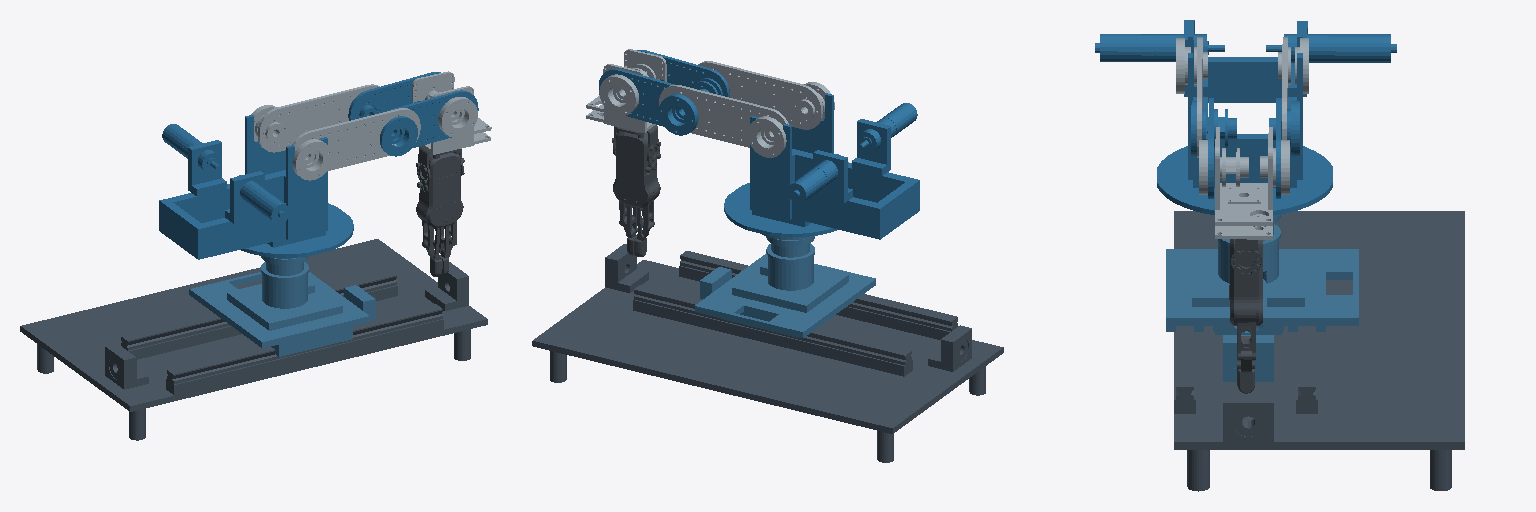
URDF robot description (pieas_6dof_arm):
<?xml version='1.0' encoding='utf-8'?>
<robot name="pieas_6dof_arm">
  <!-- Demo speed assumptions: rail 0.15 m/s, rotary joints 1.0 rad/s.
       These are simulation settings, not validated actuator ratings. -->
  <!--Extracted from final forward at.ttt. RG2 shown in its saved configuration. See README for simulation assumptions.-->
  <material name="base_gray">
    <color rgba="0.33 0.38 0.43 1" />
  </material>
  <material name="slide_blue">
    <color rgba="0.30 0.51 0.65 1" />
  </material>
  <material name="arm_blue">
    <color rgba="0.23 0.49 0.66 1" />
  </material>
  <material name="arm_light">
    <color rgba="0.65 0.70 0.74 1" />
  </material>
  <material name="tool_gray">
    <color rgba="0.32 0.35 0.38 1" />
  </material>
  <link name="base_link">
    <visual name="base_link_visual">
      <origin xyz="-0.113622929253 -0.0451833597702 -0.0472692382633" rpy="1.5707963268 -1.03472785895e-13 -2.42251700177" />
      <geometry>
        <mesh filename="package://pieas_arm_description/meshes/base_link.stl" />
      </geometry>
      <material name="base_gray" />
    </visual>
    <collision name="base_link_collision">
      <origin xyz="-0.113622929253 -0.0451833597702 -0.0472692382633" rpy="1.5707963268 -1.03472785895e-13 -2.42251700177" />
      <geometry>
        <mesh filename="package://pieas_arm_description/meshes/base_link.stl" />
      </geometry>
    </collision>
    <inertial>
      <origin xyz="0.0746142583713 -0.0326016751849 -0.0390220325867" rpy="0 0 0" />
      <mass value="2.78786851868" />
      <inertia ixx="0.0601623743892" ixy="-0.0231749016154" ixz="0.0198890426679" iyy="0.0663467585271" iyz="0.0174115406571" izz="0.0469428717541" />
    </inertial>
  </link>
  <link name="slide_link">
    <visual name="slide_link_visual">
      <origin xyz="-0.02 -0.0899198954059 0.000703314726334" rpy="0 0.0106113005392 1.57079632679" />
      <geometry>
        <mesh filename="package://pieas_arm_description/meshes/slide_link.stl" />
      </geometry>
      <material name="slide_blue" />
    </visual>
    <collision name="slide_link_collision">
      <origin xyz="-0.02 -0.0899198954059 0.000703314726334" rpy="0 0.0106113005392 1.57079632679" />
      <geometry>
        <mesh filename="package://pieas_arm_description/meshes/slide_link.stl" />
      </geometry>
    </collision>
    <inertial>
      <origin xyz="-0.0442565395049 -0.00688661890439 -0.00501030348696" rpy="0 0 0" />
      <mass value="1.27925394187" />
      <inertia ixx="0.00345500882567" ixy="5.21466629094e-07" ixz="-1.50166049777e-05" iyy="0.00171410084141" iyz="-1.94566506382e-06" izz="0.00208419339419" />
    </inertial>
  </link>
  <link name="shoulder_link">
    <visual name="shoulder_link_visual">
      <origin xyz="-3.28057514273e-06 -5.28344363053e-06 -1.94069760262e-11" rpy="3.67320496739e-06 3.67320525818e-06 1.31819064195e-11" />
      <geometry>
        <mesh filename="package://pieas_arm_description/meshes/shoulder_link.stl" />
      </geometry>
      <material name="arm_blue" />
    </visual>
    <collision name="shoulder_link_collision">
      <origin xyz="-3.28057514273e-06 -5.28344363053e-06 -1.94069760262e-11" rpy="3.67320496739e-06 3.67320525818e-06 1.31819064195e-11" />
      <geometry>
        <mesh filename="package://pieas_arm_description/meshes/shoulder_link.stl" />
      </geometry>
    </collision>
    <inertial>
      <origin xyz="-0.0574078653502 -5.47631027084e-06 0.0524891184719" rpy="0 0 0" />
      <mass value="1.1263238117" />
      <inertia ixx="0.00208066448992" ixy="-5.49682688349e-13" ixz="1.08628727089e-08" iyy="0.0035632236717" iyz="-5.41735457284e-09" izz="0.0050380439923" />
    </inertial>
  </link>
  <link name="elbow_link">
    <visual name="elbow_link_visual">
      <origin xyz="-0.0219006117041 -0.0370677362033 -0.0473956341845" rpy="3.14159265359 2.07389661e-13 1.56206968053" />
      <geometry>
        <mesh filename="package://pieas_arm_description/meshes/elbow_link.stl" />
      </geometry>
      <material name="arm_light" />
    </visual>
    <collision name="elbow_link_collision">
      <origin xyz="-0.0219006117041 -0.0370677362033 -0.0473956341845" rpy="3.14159265359 2.07389661e-13 1.56206968053" />
      <geometry>
        <mesh filename="package://pieas_arm_description/meshes/elbow_link.stl" />
      </geometry>
    </collision>
    <inertial>
      <origin xyz="0.056810692727 -0.00275330660781 -0.00289563418447" rpy="0 0 0" />
      <mass value="0.222412505907" />
      <inertia ixx="8.20263997316e-05" ixy="3.54036287565e-06" ixz="0" iyy="0.000487680906342" iyz="0" izz="0.00056594904882" />
    </inertial>
  </link>
  <link name="forearm_link">
    <visual name="forearm_link_visual">
      <origin xyz="-0.00314998335683 0.00205203485355 -0.0598821071591" rpy="-6.20659773576e-13 6.19282403136e-13 -0.0523598775597" />
      <geometry>
        <mesh filename="package://pieas_arm_description/meshes/forearm_link.stl" />
      </geometry>
      <material name="arm_blue" />
    </visual>
    <collision name="forearm_link_collision">
      <origin xyz="-0.00314998335683 0.00205203485355 -0.0598821071591" rpy="-6.20659773576e-13 6.19282403136e-13 -0.0523598775597" />
      <geometry>
        <mesh filename="package://pieas_arm_description/meshes/forearm_link.stl" />
      </geometry>
    </collision>
    <inertial>
      <origin xyz="0.027572242842 0.0011781122248 -0.000388327685875" rpy="0 0 0" />
      <mass value="0.190850084278" />
      <inertia ixx="6.8244415779e-05" ixy="5.15665819255e-06" ixz="1.80106604698e-08" iyy="0.000249922065697" iyz="-2.8888299329e-08" izz="0.000312526128446" />
    </inertial>
  </link>
  <link name="wrist_link">
    <visual name="wrist_link_visual">
      <origin xyz="0.00412929670069 0.000175101273392 0.0499053645979" rpy="3.14159265359 1.06137321154e-13 0.593411945678" />
      <geometry>
        <mesh filename="package://pieas_arm_description/meshes/wrist_link.stl" />
      </geometry>
      <material name="arm_light" />
    </visual>
    <collision name="wrist_link_collision">
      <origin xyz="0.00412929670069 0.000175101273392 0.0499053645979" rpy="3.14159265359 1.06137321154e-13 0.593411945678" />
      <geometry>
        <mesh filename="package://pieas_arm_description/meshes/wrist_link.stl" />
      </geometry>
    </collision>
    <inertial>
      <origin xyz="0.0074951984155 0.016502274582 -0.00105181078086" rpy="0 0 0" />
      <mass value="0.193165266443" />
      <inertia ixx="8.38551890925e-05" ixy="-1.17601832942e-06" ixz="1.23534550029e-06" iyy="0.000108238656016" iyz="4.24587358143e-08" izz="0.000149288734218" />
    </inertial>
  </link>
  <link name="rg2_link">
    <visual name="rg2_visual">
      <origin xyz="0.000964214784228 -0.00106034677491 -0.00463968171153" rpy="2.24709140184e-13 -6.06625860655e-13 3.05432619099" />
      <geometry>
        <mesh filename="package://pieas_arm_description/meshes/rg2_visual.stl" />
      </geometry>
      <material name="tool_gray" />
    </visual>
    <collision name="rg2_collision">
      <origin xyz="0.000964214784228 -0.00106034677491 -0.00463968171153" rpy="2.24709140184e-13 -6.06625860655e-13 3.05432619099" />
      <geometry>
        <mesh filename="package://pieas_arm_description/meshes/rg2_collision.stl" />
      </geometry>
    </collision>
    <inertial>
      <origin xyz="0.000903232647258 -0.00105425323095 0.128973590649" rpy="0 0 0" />
      <mass value="0.649949986488" />
      <inertia ixx="0.00371822214612" ixy="2.36501434903e-07" ixz="-7.37576072103e-07" iyy="0.00372085974748" iyz="8.18409248667e-08" izz="0.000677826923749" />
    </inertial>
  </link>
  <link name="tool0" />
  <joint name="tool0_fixed" type="fixed">
    <parent link="rg2_link" />
    <child link="tool0" />
    <origin xyz="0.00152937072616 -9.56811660029e-05 0.195355912714" rpy="3.14159265359 2.0650148258e-13 1.57046745796" />
  </joint>
  <link name="world" />
  <joint name="base_mount" type="fixed">
    <parent link="world" />
    <child link="base_link" />
    <origin xyz="0 0 0" rpy="0 0 0" />
  </joint>
  <joint name="joint_1" type="prismatic">
    <parent link="base_link" />
    <child link="slide_link" />
    <origin xyz="0 0 0.0940007617367" rpy="-3.13112067808 1.57079632679 0" />
    <axis xyz="0 0 1" />
    <limit effort="50" velocity="0.15" lower="-0.5" upper="0.5" />
  </joint>
  <joint name="joint_2" type="revolute">
    <parent link="slide_link" />
    <child link="shoulder_link" />
    <origin xyz="-0.15724 2.35953659804e-06 -3.65214317016e-06" rpy="1.57079265357 1.56395062626 -1.57079632681" />
    <axis xyz="0 0 1" />
    <limit effort="10" velocity="1.0" lower="-3.14159265359" upper="3.14159265359" />
  </joint>
  <joint name="joint_3" type="revolute">
    <parent link="shoulder_link" />
    <child link="elbow_link" />
    <origin xyz="-4.11575832122e-06 -2.94129452787e-06 0.139410171371" rpy="-1.57078947493 0.00132489761668 -1.83173785084e-06" />
    <axis xyz="0 0 1" />
    <limit effort="10" velocity="1.0" lower="-3.14159265359" upper="3.14159265359" />
  </joint>
  <joint name="joint_4" type="revolute">
    <parent link="elbow_link" />
    <child link="forearm_link" />
    <origin xyz="0.162775198791 -0.00042495666064 0.000596459765891" rpy="6.19476692165e-13 -7.34640979516e-06 -0.00872664626018" />
    <axis xyz="0 0 1" />
    <limit effort="10" velocity="1.0" lower="-3.14159265359" upper="3.14159265359" />
  </joint>
  <joint name="joint_5" type="revolute">
    <parent link="forearm_link" />
    <child link="wrist_link" />
    <origin xyz="0.0998642916392 0.000765100000294 0.000352518473079" rpy="-7.34641081236e-06 4.26991775271e-13 -0.0285178775596" />
    <axis xyz="0 0 1" />
    <limit effort="10" velocity="1.0" lower="-3.14159265359" upper="3.14159265359" />
  </joint>
  <joint name="joint_6" type="continuous">
    <parent link="wrist_link" />
    <child link="rg2_link" />
    <origin xyz="-0.00256243661576 0.0730297803899 2.84749661815e-06" rpy="-1.57078318135 0.0627019095197 0.0446507693344" />
    <axis xyz="0 0 1" />
    <limit effort="2.5" velocity="1.0" />
  </joint>
</robot>

--- Render facts (derived) ---
Views: 3 orthographic renders of the robot side by side, from view 1: azimuth 30°, elevation 25°; view 2: azimuth 150°, elevation 25°; view 3: azimuth 270°, elevation 25°.
Model pieas_6dof_arm with 9 links and 8 joints (4 revolute, 1 continuous, 1 prismatic, 2 fixed), rooted at world, posed every joint at zero.
Links seen in each view (by area): view 1: base_link, shoulder_link, slide_link, elbow_link, rg2_link, forearm_link, wrist_link; view 2: base_link, shoulder_link, slide_link, elbow_link, rg2_link, forearm_link, wrist_link; view 3: base_link, shoulder_link, slide_link, wrist_link, rg2_link, forearm_link, elbow_link.
Boxes of the visible links, <box> form: base_link: <box>20,239,487,440</box>; shoulder_link: <box>159,115,353,259</box>; slide_link: <box>189,256,375,356</box>; elbow_link: <box>251,84,420,180</box>; rg2_link: <box>416,146,464,276</box>; forearm_link: <box>348,72,478,156</box>; wrist_link: <box>412,71,491,154</box>; base_link: <box>532,244,1003,462</box>; shoulder_link: <box>724,93,919,239</box>; slide_link: <box>695,234,875,337</box>; elbow_link: <box>659,61,834,157</box>; rg2_link: <box>612,125,660,256</box>; forearm_link: <box>599,50,729,135</box>; wrist_link: <box>586,49,666,132</box>; base_link: <box>1174,211,1464,491</box>; shoulder_link: <box>1095,20,1396,215</box>; slide_link: <box>1166,214,1358,381</box>; wrist_link: <box>1199,127,1289,239</box>; rg2_link: <box>1229,239,1262,393</box>; forearm_link: <box>1191,98,1299,198</box>; elbow_link: <box>1176,37,1308,157</box>.
Bounding box of the posed robot: 0.6432 × 0.4134 × 0.4291 m (x, y, z).
7 mesh visuals loaded from 7 distinct referenced files (7 binary STL).
